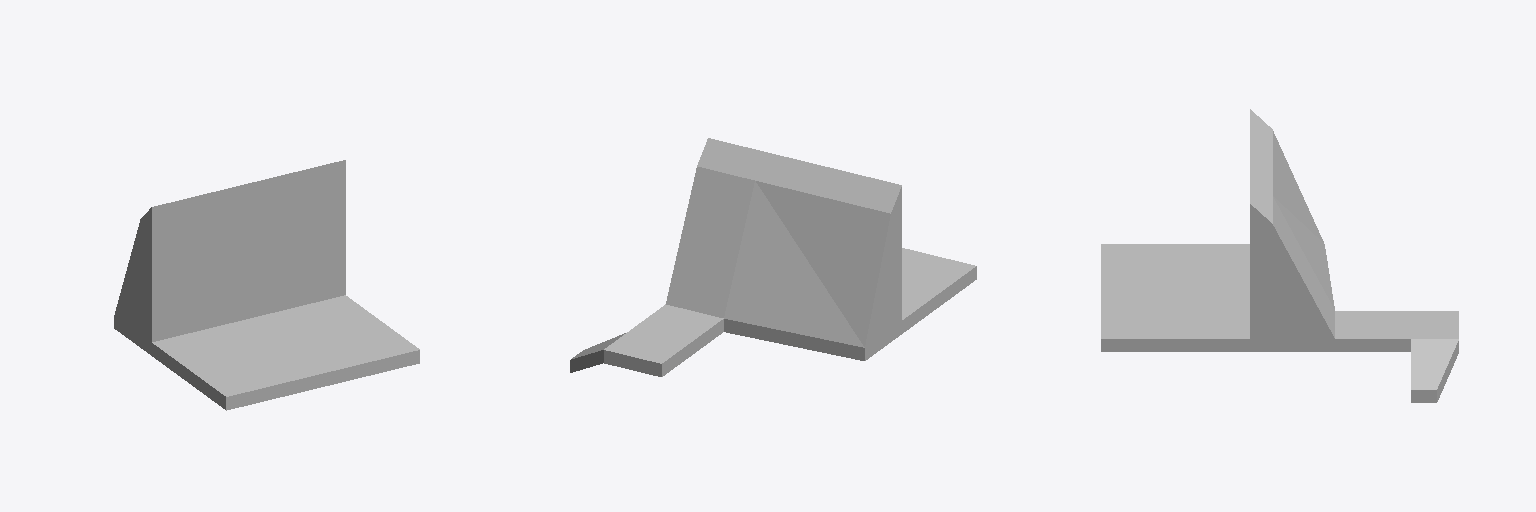
Rendered from Gun1_Screen.obj.
3 views of the same model, side by side, from view 1: azimuth 30°, elevation 25°; view 2: azimuth 150°, elevation 25°; view 3: azimuth 270°, elevation 25° (orthographic).
Visible parts, largest first — view 1: Cube.010; view 2: Cube.010; view 3: Cube.010.
Part boxes in pixels (x1,y1,x2,y2): Cube.010: (114,160,419,410); Cube.010: (570,138,976,376); Cube.010: (1101,109,1458,402).
Size of the model in its own units: 0.3687 by 0.2628 by 0.48.